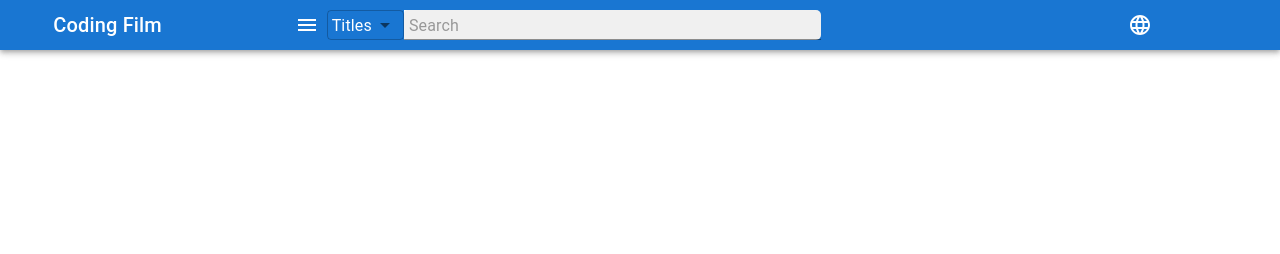
MobileDrawerContainer › Click the menu button to open menu
Click the button named "menu button" at (307, 25), box [287,10,327,40]
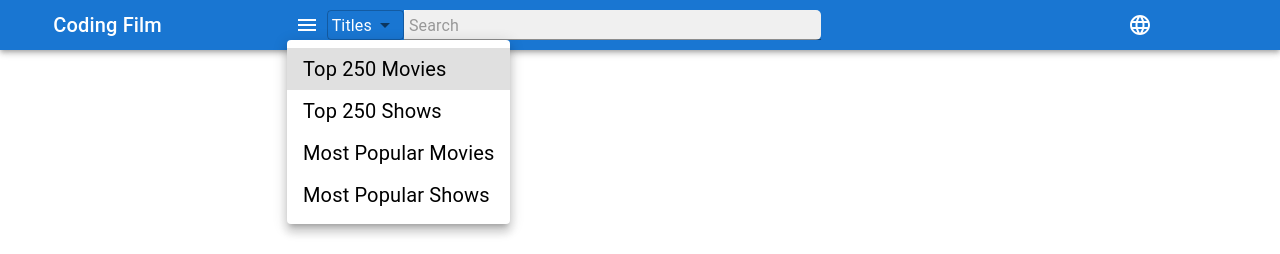
Check: the menu is shown, box [287,40,510,224]
